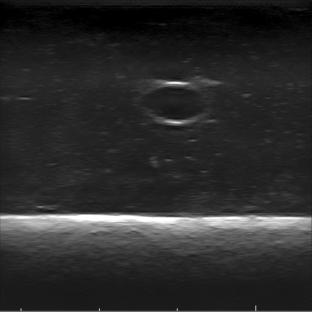vessel: (140, 81, 209, 126)
